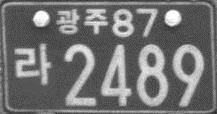2: (63, 42, 97, 107)
4: (99, 43, 132, 107)
7: (135, 6, 158, 37)
8: (135, 43, 170, 107), (111, 8, 134, 38)
9: (172, 42, 205, 109)
광주_O: (55, 7, 109, 35)
라: (13, 42, 53, 86)
